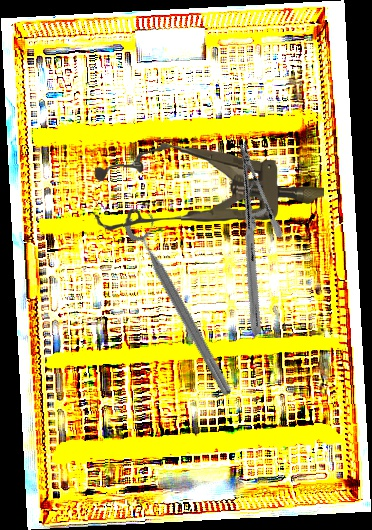Fixation Ring: (119, 204, 248, 400)
Needle Holder: (163, 141, 337, 337)
Speculum: (94, 142, 325, 239)
